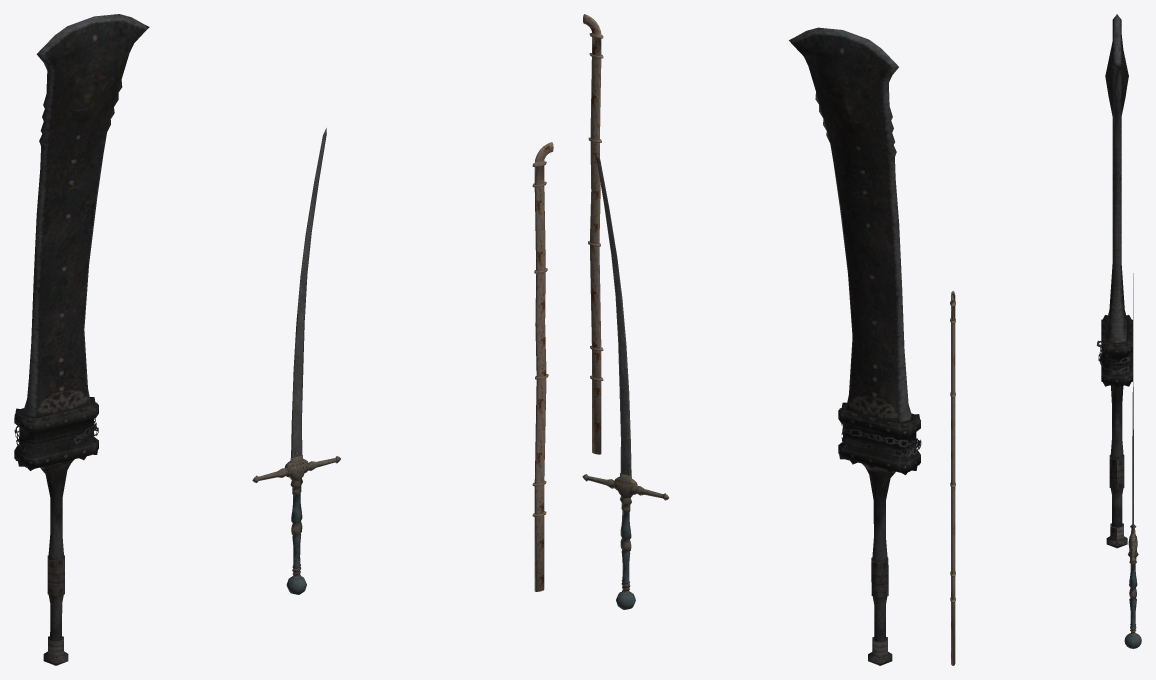
The model's file is Armas.FBX.
The picture shows the model from 3 angles, left to right: view 1: azimuth 30°, elevation 25°; view 2: azimuth 150°, elevation 25°; view 3: azimuth 270°, elevation 25°; orthographic projection. The views are drawn at different scales.
Parts seen in each view (by area): view 1: Model001_26__Sword_pt1_0_2_0_0, Model001_26__Pipe_pt1_0_4_0_0, Model001_26__Sword_pt1_0_2_0_001; view 2: Model001_26__Sword_pt1_0_2_0_0, Model001_26__Sword_pt1_0_2_0_001, Model001_26__Pipe_pt1_0_4_0_0; view 3: Model001_26__Sword_pt1_0_2_0_0, Model001_26__Pipe_pt1_0_4_0_0, Model001_26__Sword_pt1_0_2_0_001.
Boxes of the visible parts, x1,y1,x2,y2 form: Model001_26__Sword_pt1_0_2_0_0: (14,14,149,665); Model001_26__Pipe_pt1_0_4_0_0: (532,142,553,591); Model001_26__Sword_pt1_0_2_0_001: (252,128,340,594); Model001_26__Sword_pt1_0_2_0_0: (789,27,921,665); Model001_26__Sword_pt1_0_2_0_001: (582,152,669,609); Model001_26__Pipe_pt1_0_4_0_0: (583,14,603,454); Model001_26__Sword_pt1_0_2_0_0: (1096,14,1132,548); Model001_26__Pipe_pt1_0_4_0_0: (950,291,955,665); Model001_26__Sword_pt1_0_2_0_001: (1124,273,1141,648).
Size of the model in its own units: 61.53 by 86.14 by 27.63.
Materials: 3 (3 with a texture image).
